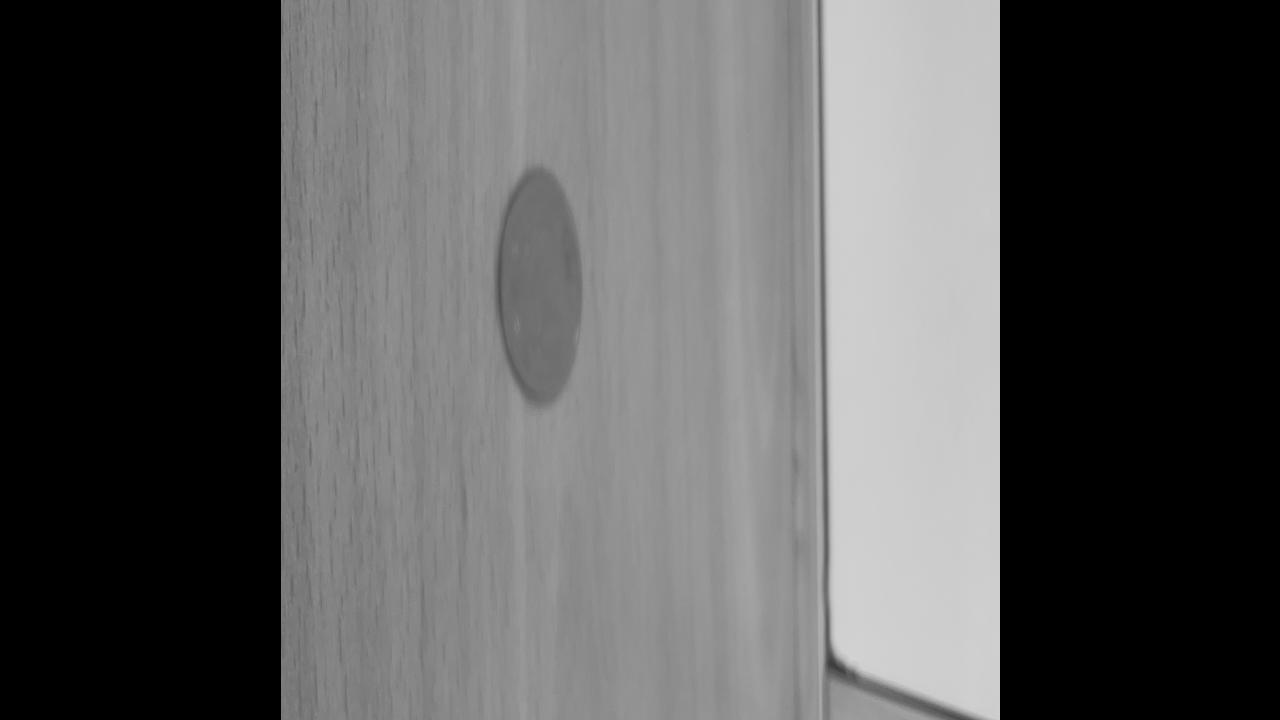coin: (497, 168, 583, 408)
